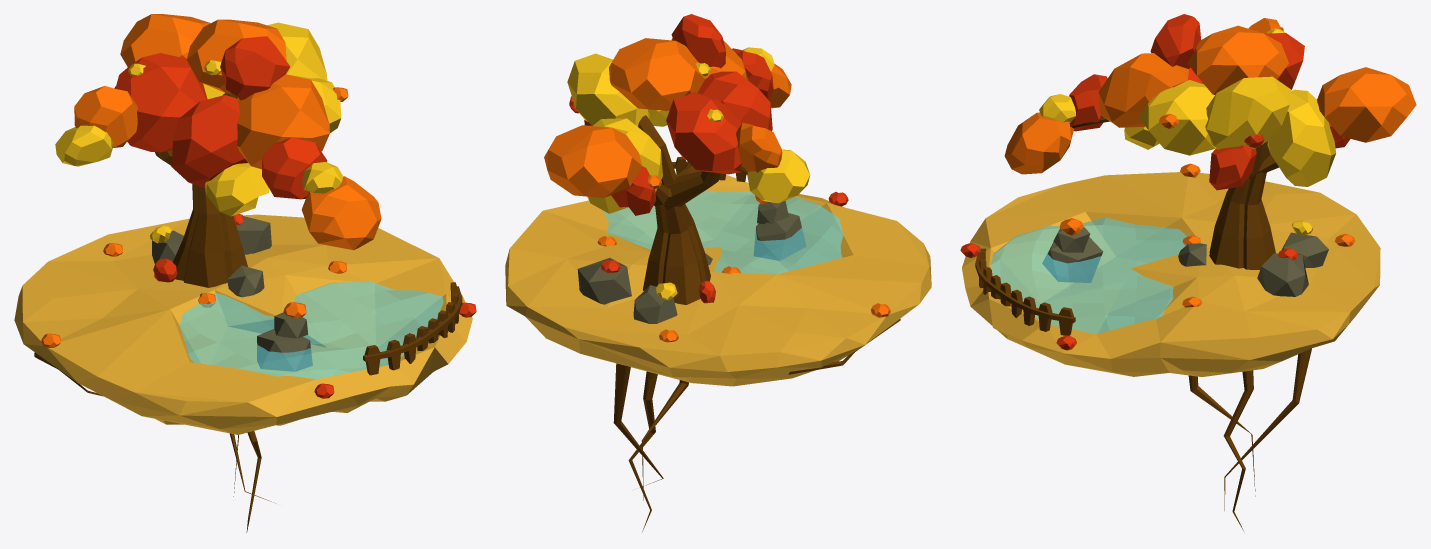
Rendered from island-fall.glb.
3 views of the same model, side by side, from view 1: azimuth 30°, elevation 25°; view 2: azimuth 150°, elevation 25°; view 3: azimuth 270°, elevation 25° (orthographic). The views are drawn at different scales.
Parts seen in each view (by area): view 1: Island, pond, Icosphere.006, Icosphere.004, three.trunk, Icosphere.002, Icosphere.019, Icosphere.007, Icosphere.001, Icosphere.020, Icosphere.009, Icosphere.012 (+13 smaller); view 2: Island, pond, three.trunk, Icosphere.020, Icosphere.001, Icosphere.004, Icosphere.005, Icosphere.002, roots, Icosphere.008, Icosphere.007, Icosphere.003 (+9 smaller); view 3: Island, pond, Icosphere.020, three.trunk, Icosphere.005, Icosphere.001, Icosphere.003, Icosphere.006, Icosphere, Icosphere.019, roots, Icosphere.007 (+12 smaller).
Part boxes in pixels (x1,y1,x2,y2): Island: (14, 214, 472, 434); pond: (179, 280, 443, 379); Icosphere.006: (237, 74, 329, 169); Icosphere.004: (114, 53, 207, 152); three.trunk: (155, 93, 247, 287); Icosphere.002: (171, 95, 247, 187); Icosphere.019: (301, 176, 381, 250); Icosphere.007: (220, 36, 290, 100); Icosphere.001: (186, 19, 286, 93); Icosphere.020: (120, 14, 210, 66); Icosphere.009: (74, 86, 137, 147); Icosphere.012: (262, 137, 327, 199); Island: (505, 174, 931, 386); pond: (604, 190, 843, 274); three.trunk: (638, 115, 747, 304); Icosphere.020: (544, 125, 641, 197); Icosphere.001: (609, 38, 705, 110); Icosphere.004: (666, 92, 741, 174); Icosphere.005: (567, 53, 650, 126); Icosphere.002: (697, 71, 772, 131); roots: (613, 363, 688, 531); Icosphere.008: (747, 149, 810, 203); Icosphere.007: (671, 14, 725, 68); Icosphere.003: (587, 118, 662, 213); Island: (962, 172, 1380, 376); pond: (990, 217, 1186, 333); Icosphere.020: (1317, 67, 1416, 142); three.trunk: (1070, 116, 1278, 269); Icosphere.005: (1205, 76, 1291, 149); Icosphere.001: (1187, 25, 1288, 94); Icosphere.003: (1267, 89, 1335, 186); Icosphere.006: (1098, 53, 1188, 127); Icosphere: (1139, 80, 1215, 155); Icosphere.019: (1004, 112, 1073, 174); roots: (1188, 348, 1311, 530); Icosphere.007: (1150, 14, 1200, 68).
Bounding box in the file's own units: 2.91 × 3.83 × 3.14.
